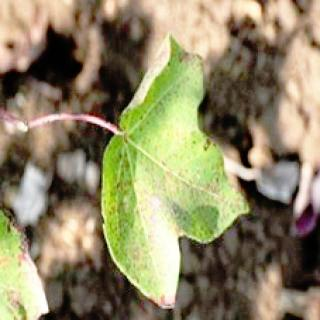leaf spot: (102, 37, 248, 309), (8, 224, 51, 318)
